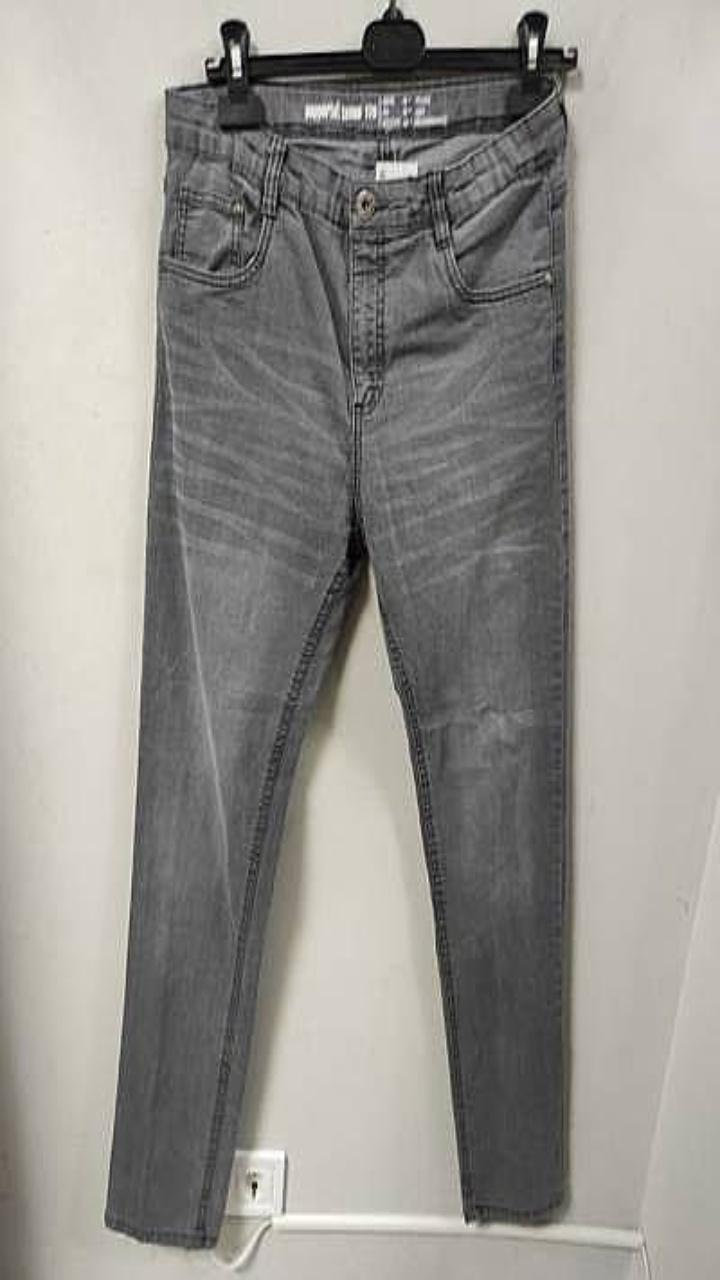Jeans: (104, 73, 570, 1247)
